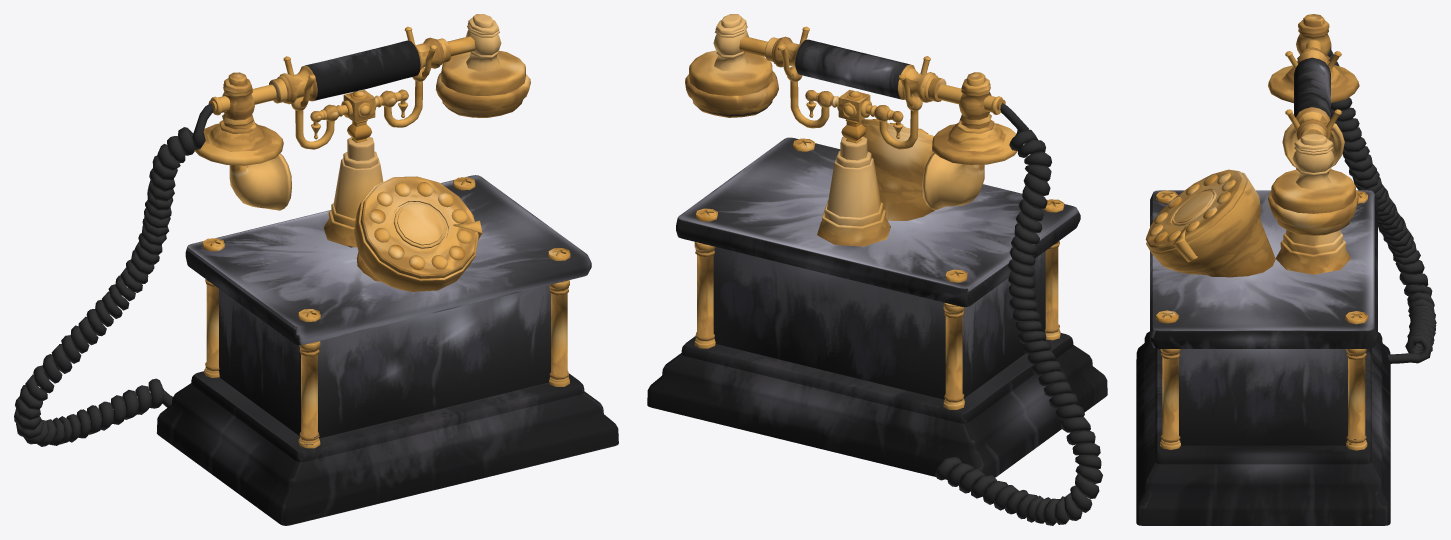
Rendered from phone_texture.fbx.
The picture shows the model from 3 angles, left to right: view 1: azimuth 30°, elevation 25°; view 2: azimuth 150°, elevation 25°; view 3: azimuth 270°, elevation 25°; orthographic projection.
Parts seen in each view (by area): view 1: petitTruc_lowPoly; view 2: petitTruc_lowPoly; view 3: petitTruc_lowPoly.
Boxes of the visible parts, bbox=[...] form: petitTruc_lowPoly: bbox=[14, 14, 618, 525]; petitTruc_lowPoly: bbox=[647, 14, 1107, 525]; petitTruc_lowPoly: bbox=[1136, 14, 1436, 525].
Size of the model in its own units: 188 by 146 by 107.
